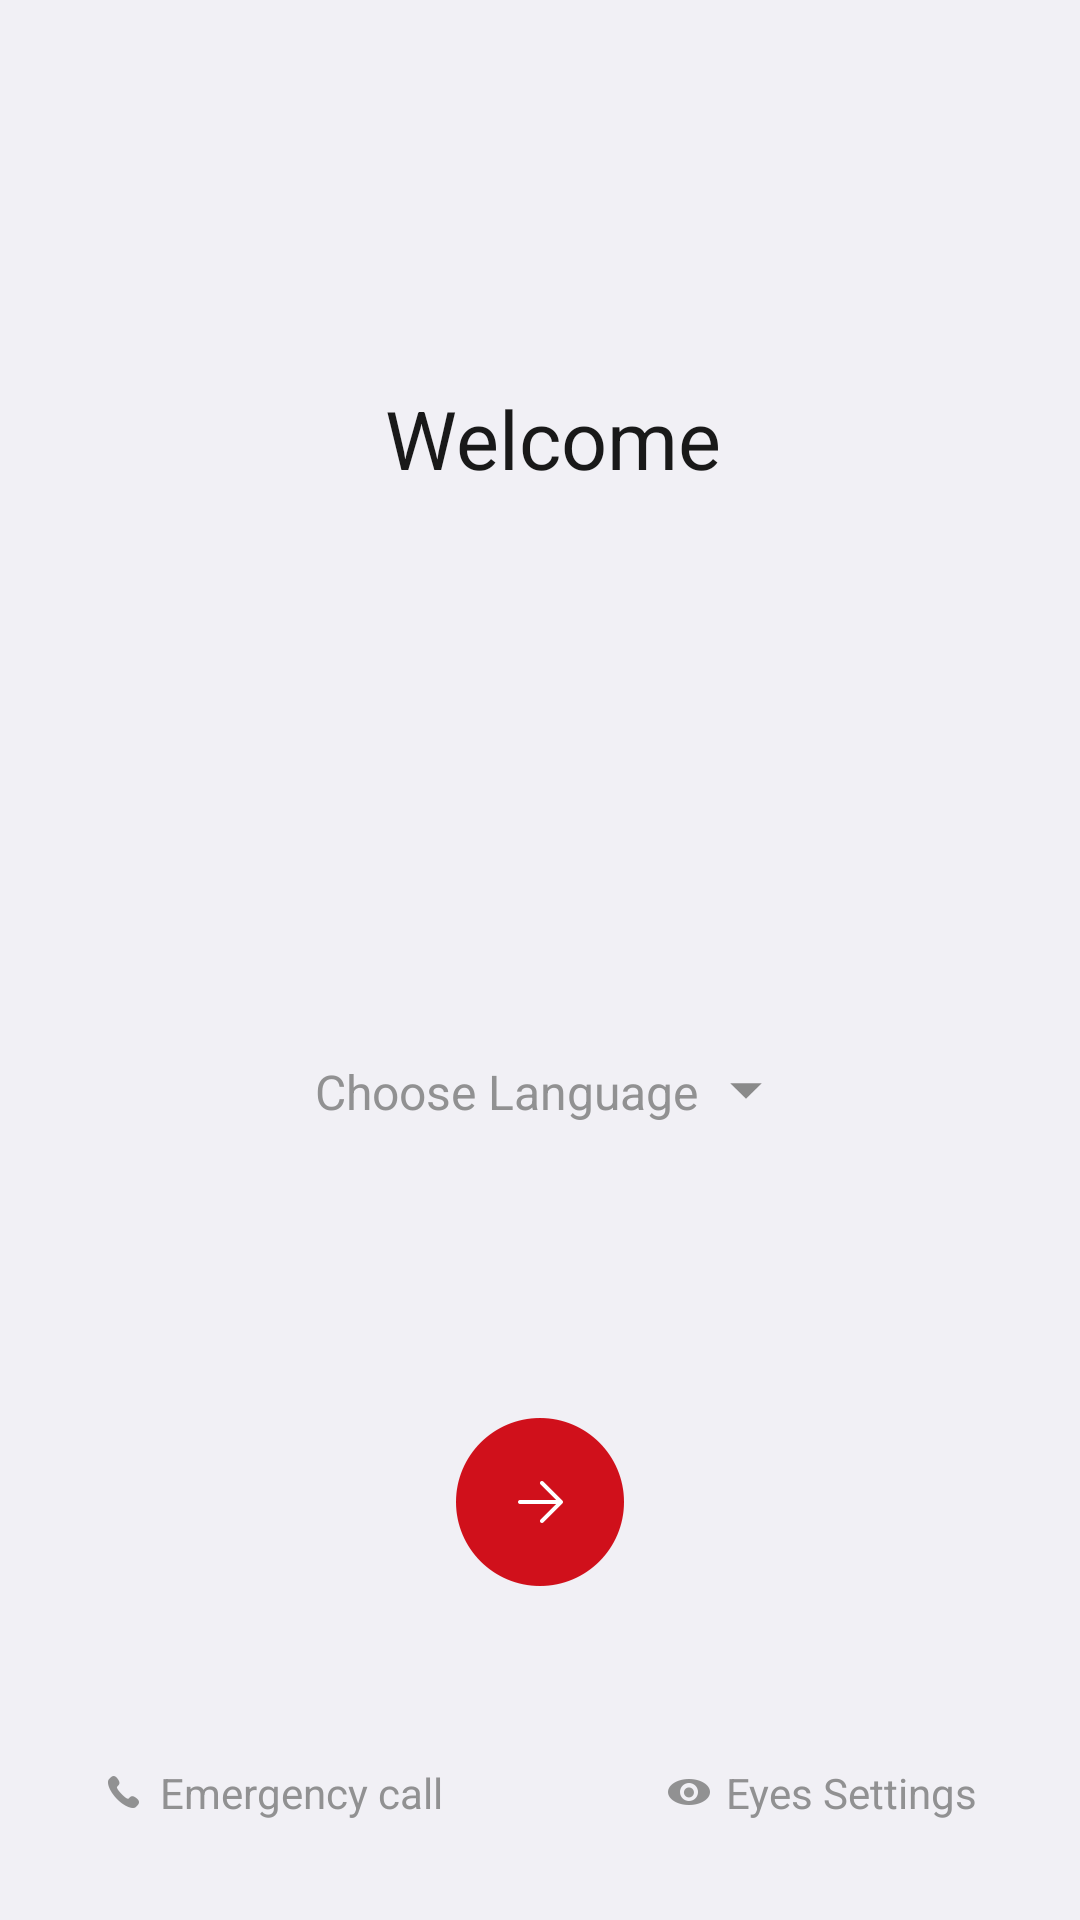

Icons on this 1080px×1920px Android screen, each with its box as (x1, y1, x2, y2):
next selctor: (456, 1418, 624, 1586)
